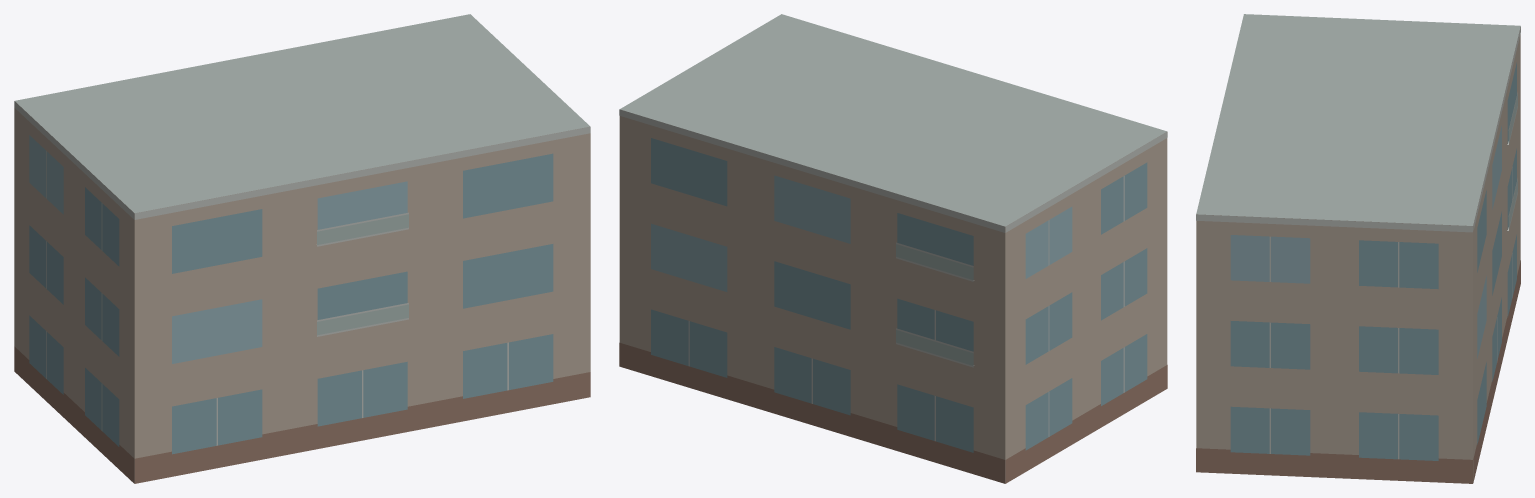
File: survey-upis-33022696.glb
The picture shows the model from 3 angles, left to right: view 1: azimuth 30°, elevation 25°; view 2: azimuth 150°, elevation 25°; view 3: azimuth 270°, elevation 25°; orthographic projection. The views are drawn at different scales.
Visible parts, largest first — view 1: survey-upis-33022696.tmp; view 2: survey-upis-33022696.tmp; view 3: survey-upis-33022696.tmp.
Boxes of the visible parts, x1,y1,x2,y2 form: survey-upis-33022696.tmp: [14, 14, 590, 483]; survey-upis-33022696.tmp: [619, 14, 1167, 483]; survey-upis-33022696.tmp: [1196, 14, 1520, 483].
Bounding box in the file's own units: 17.3 × 9.8 × 11.2.
